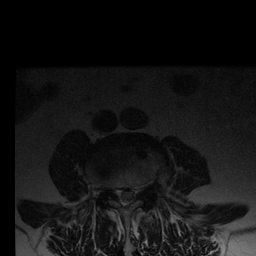CCS_normal: (123, 183, 129, 211)
LFS_normal: (138, 178, 146, 200)
LLS_normal: (130, 182, 137, 205)
RFS_severe_stenosis: (107, 178, 115, 202)
RLS_normal: (115, 180, 123, 207)
